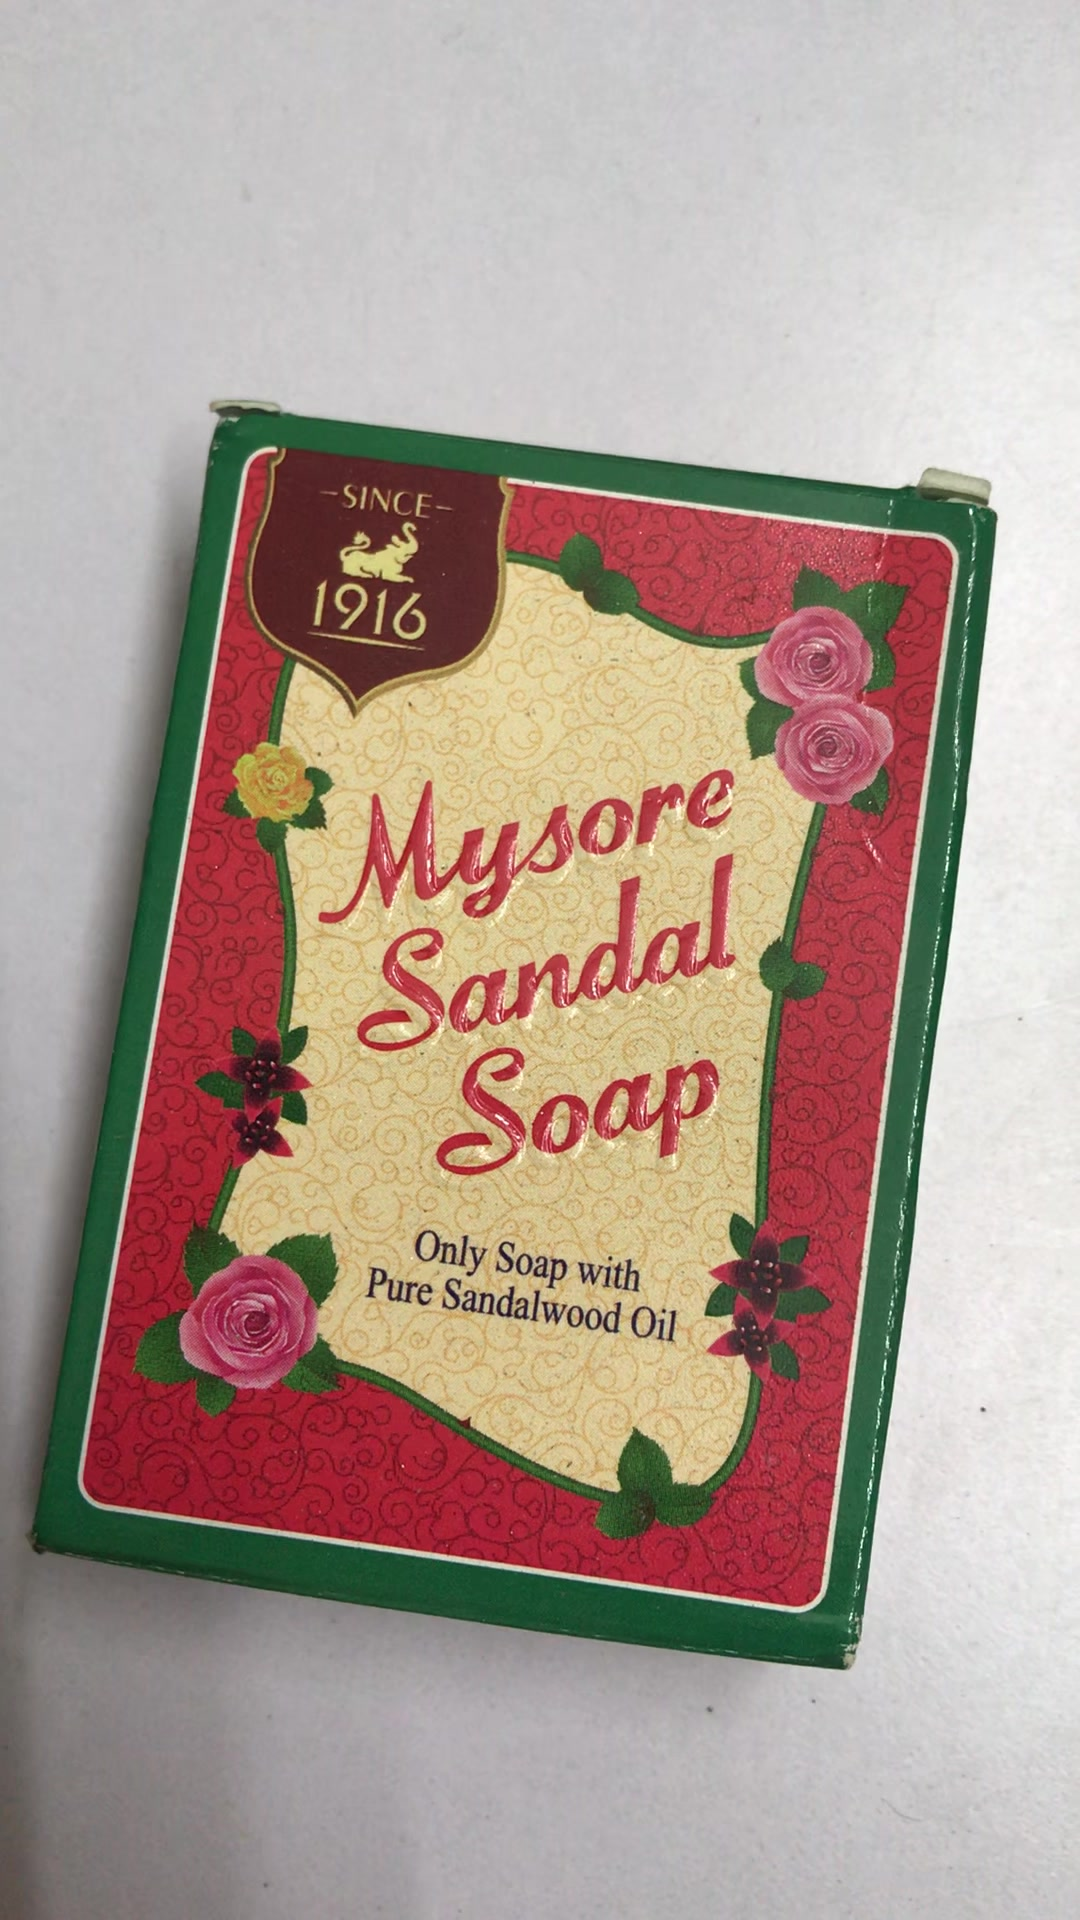mysore sandal soap: (32, 407, 1001, 1675)
